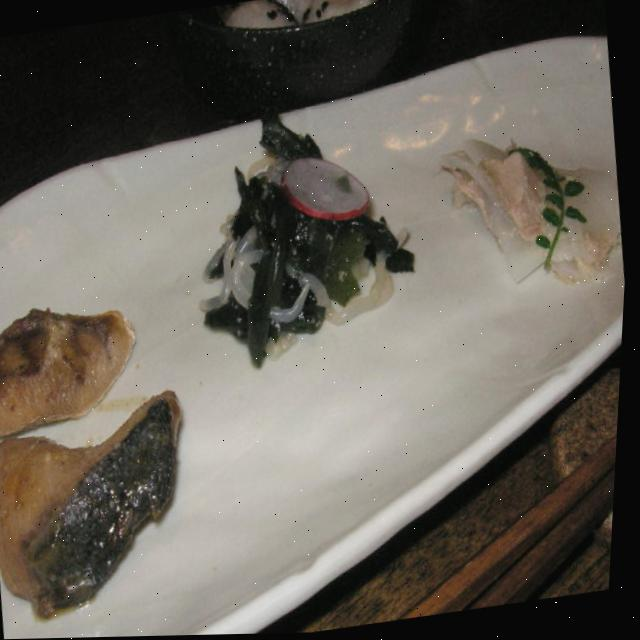熟制海鲜: (0, 237, 224, 640)
